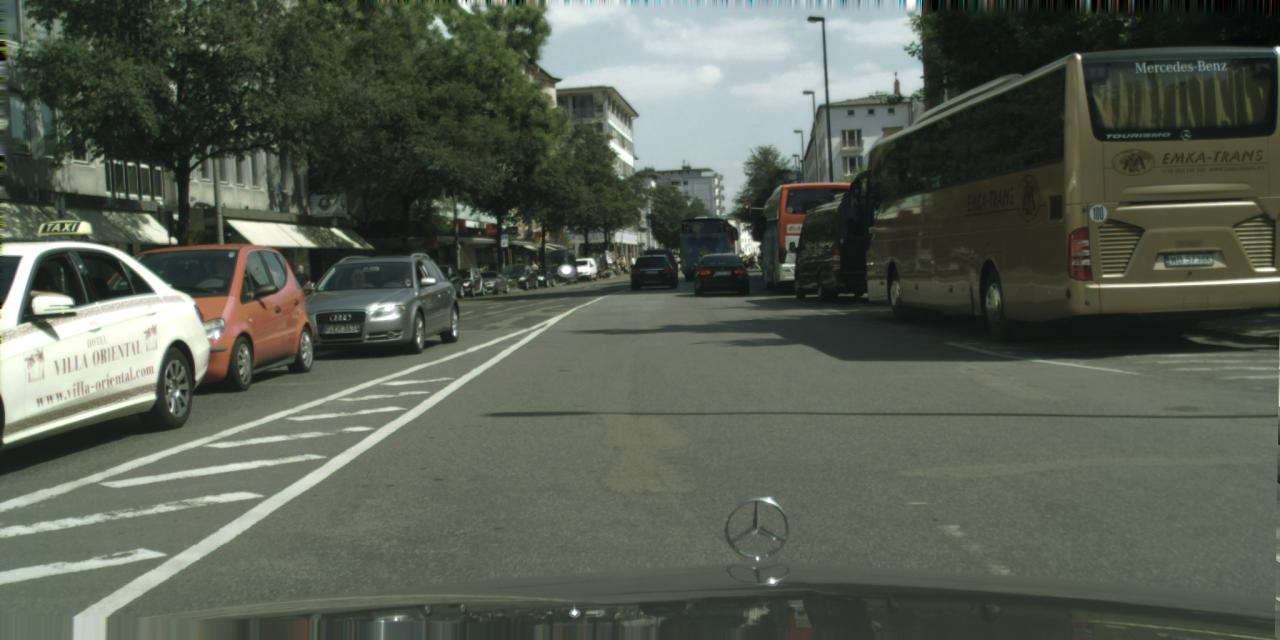ped: (290, 264, 314, 322), (736, 252, 750, 264), (614, 256, 622, 274), (530, 260, 538, 278), (747, 251, 754, 269), (752, 251, 759, 268), (620, 256, 626, 274), (675, 256, 681, 270)
